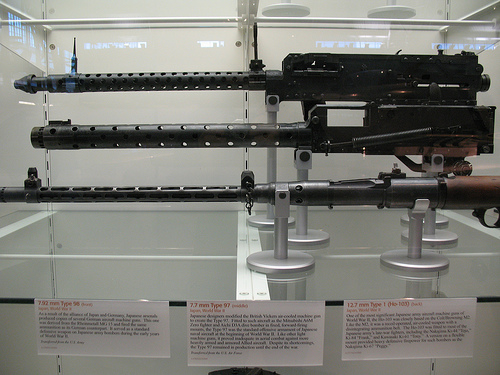rifle: (7, 109, 500, 164), (7, 46, 500, 101), (6, 167, 498, 222)
